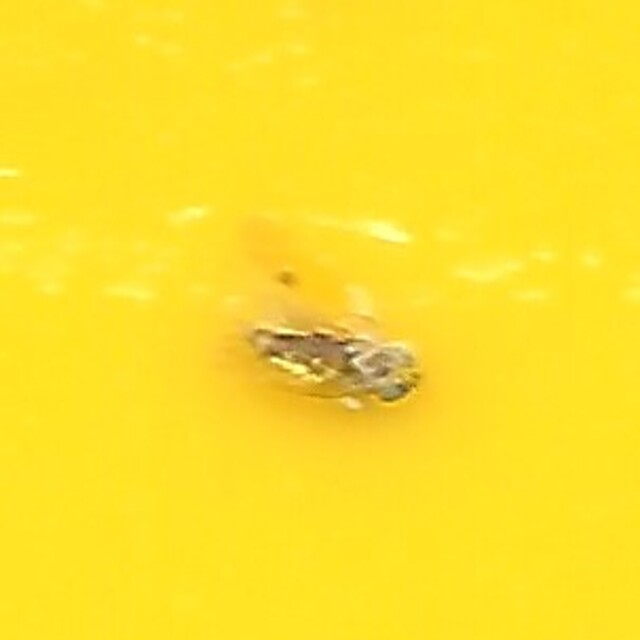Hemiptera: (211, 224, 429, 416)
